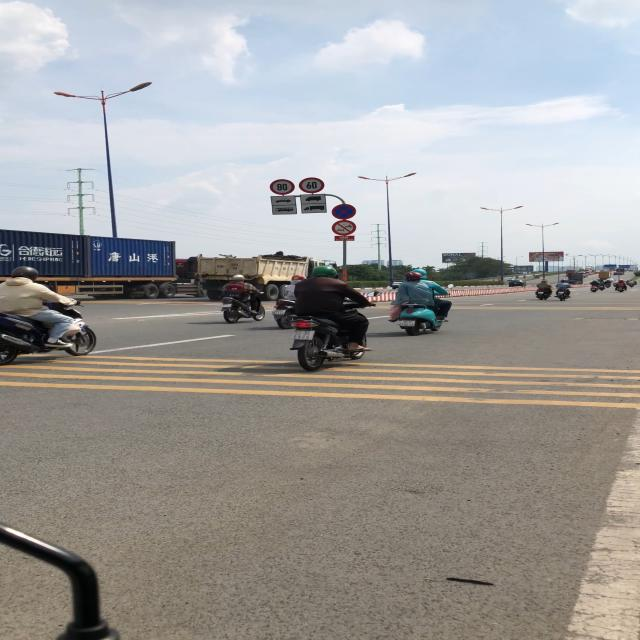Bien bao cam dung xe va do xe: (331, 204, 357, 220)
Bien bao toc do toi da cho phep: (297, 176, 327, 195), (266, 177, 297, 195)
